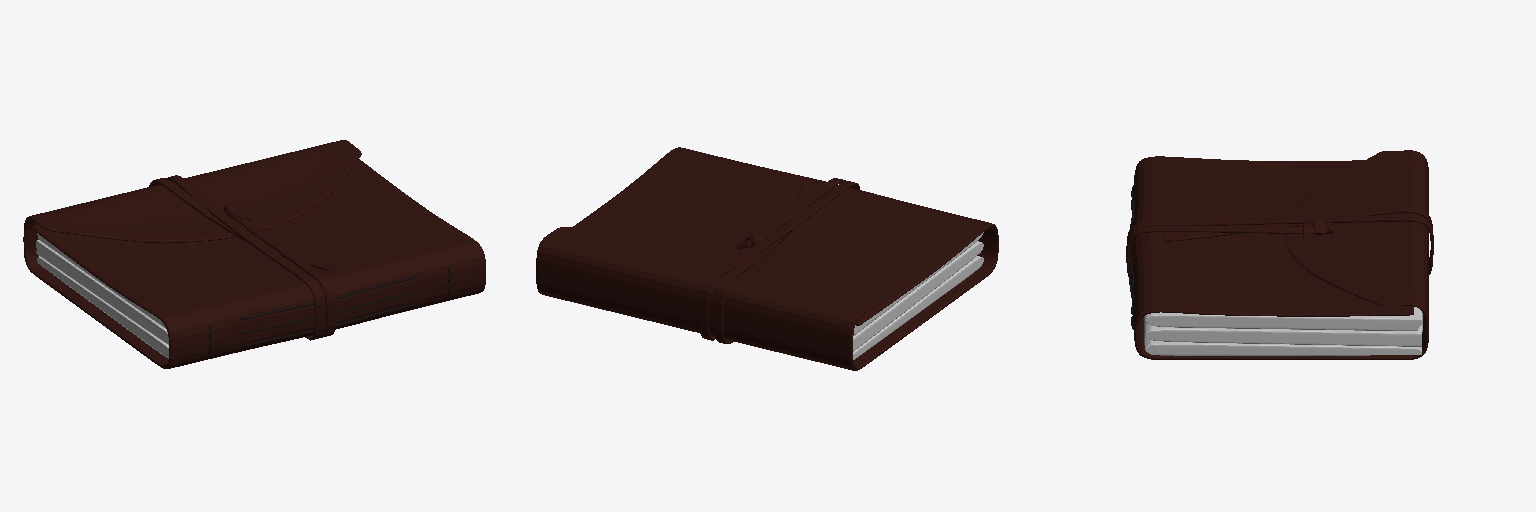
3 renders of one model, left to right at view 1: azimuth 30°, elevation 25°; view 2: azimuth 150°, elevation 25°; view 3: azimuth 270°, elevation 25°, orthographic.
Parts seen in each view (by area): view 1: b_journal_019; view 2: b_journal_019; view 3: b_journal_019.
Boxes of the visible parts, x1=… form: b_journal_019: x1=23, y1=140, x2=485, y2=368; b_journal_019: x1=536, y1=147, x2=998, y2=370; b_journal_019: x1=1126, y1=150, x2=1433, y2=359.
Bounding box in the file's own units: 22.11 × 4.63 × 18.57.
Materials: 1 (1 with a texture image).